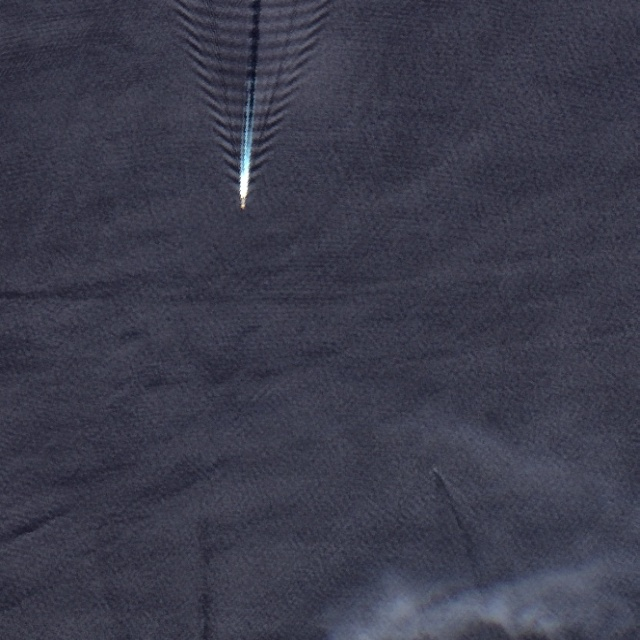wake: (184, 11, 316, 218)
